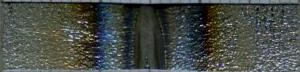soldas: (77, 2, 212, 70)
